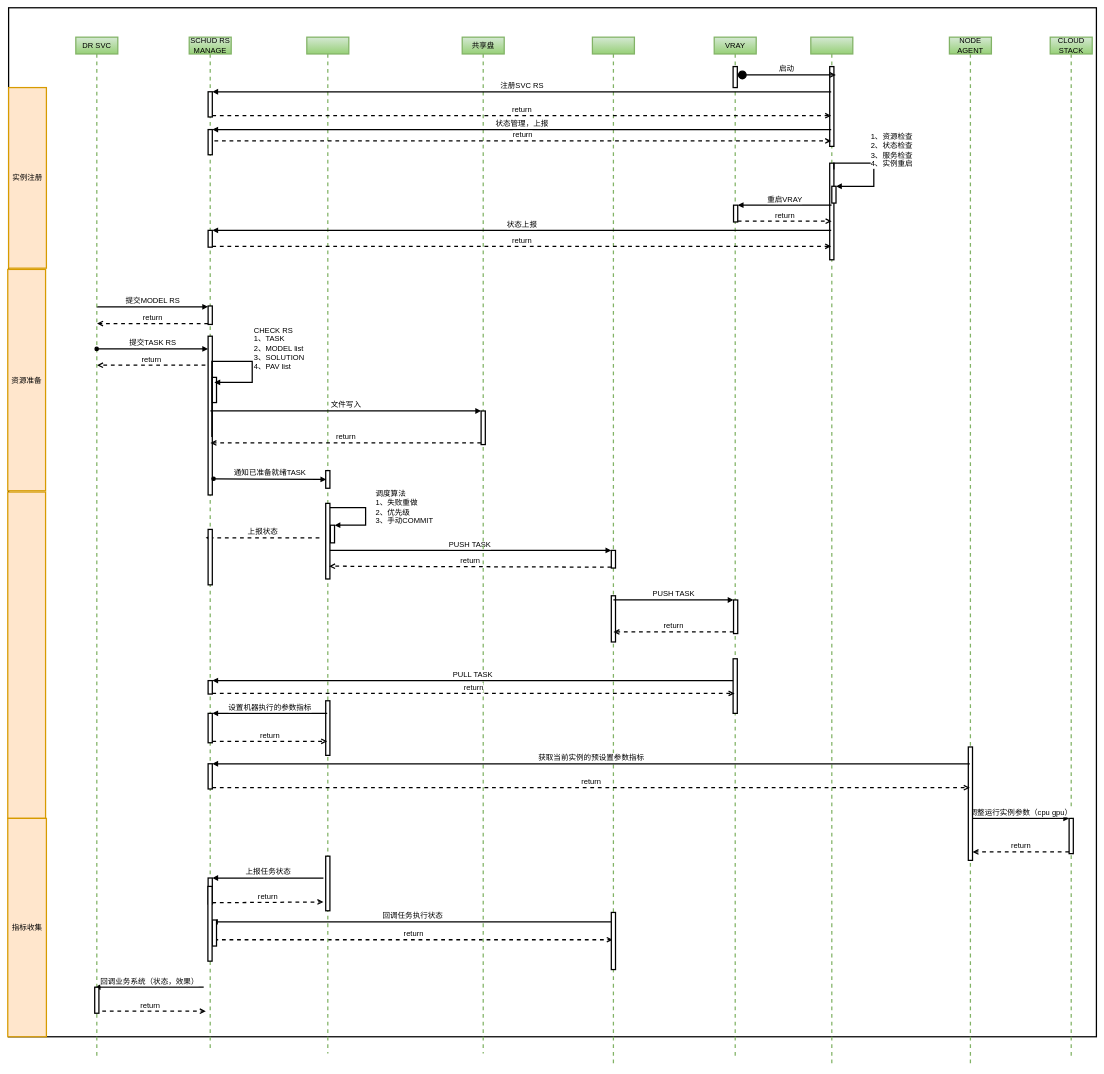
Image size: 1104x1074. Some labels were removed from this diagram. Each missing label, with the box of its shape:
RMQ: (592, 36, 635, 1067)
SCHUDELER: (306, 36, 349, 1054)
VRAY AGENT: (810, 36, 853, 1067)
调度机器: (7, 491, 46, 819)
